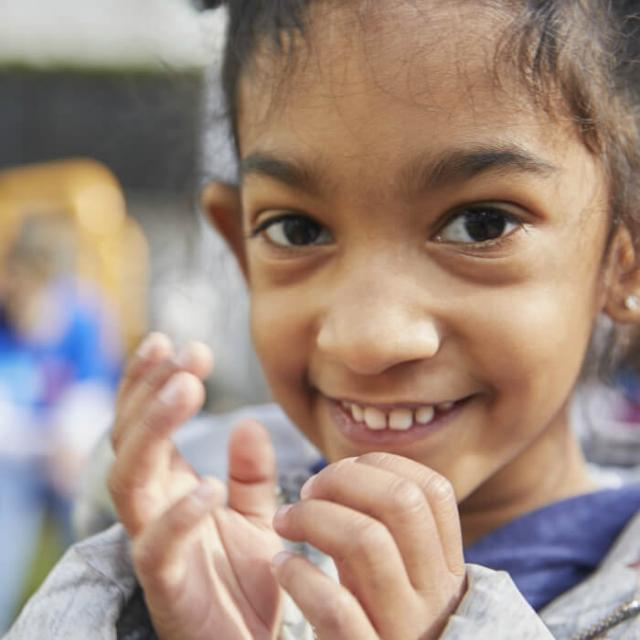child: (87, 4, 640, 640)
